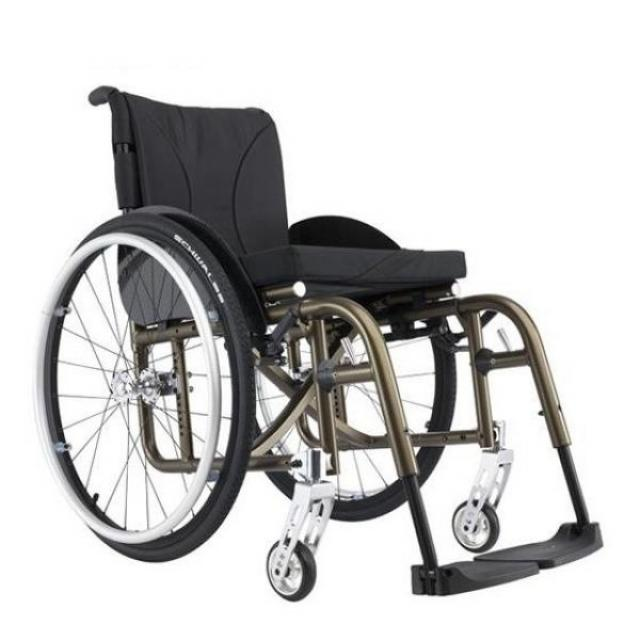wheelchair: (36, 75, 620, 607)
